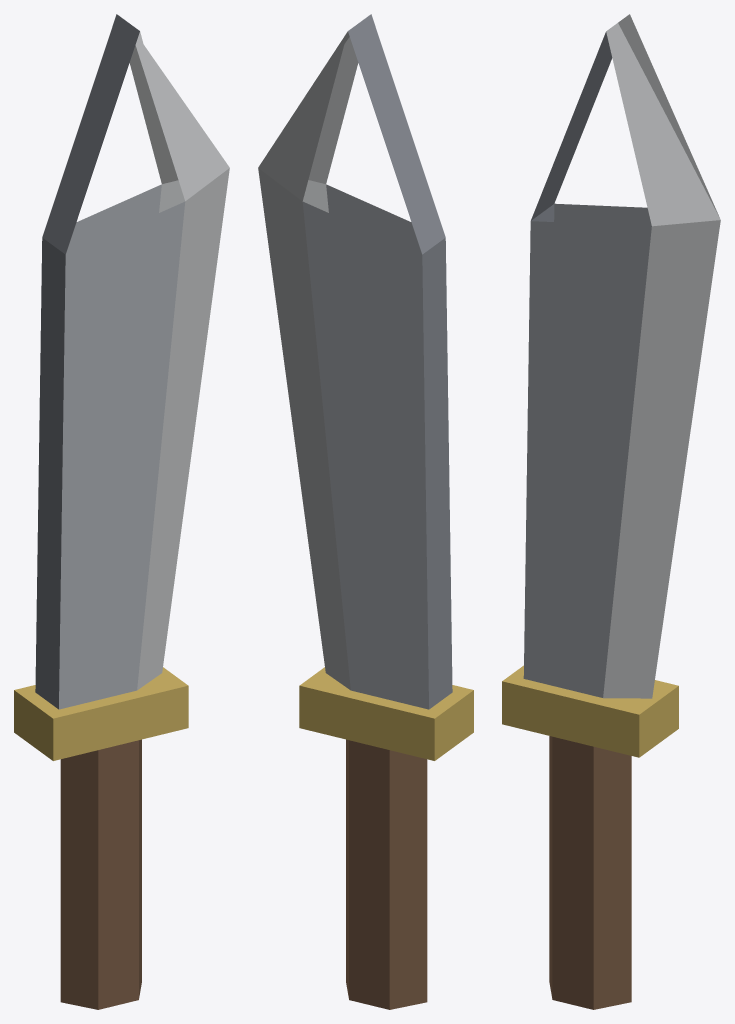
The model's file is machete.glb.
3 renders of one model, left to right at view 1: azimuth 30°, elevation 25°; view 2: azimuth 150°, elevation 25°; view 3: azimuth 330°, elevation 25°, orthographic.
Visible parts, largest first — view 1: machete; view 2: machete; view 3: machete.
Part boxes in pixels (x1=…): machete: x1=14, y1=14, x2=229, y2=1009; machete: x1=258, y1=14, x2=473, y2=1009; machete: x1=502, y1=14, x2=720, y2=1009.
Size of the model in its own units: 0.29 by 1.36 by 0.1.
